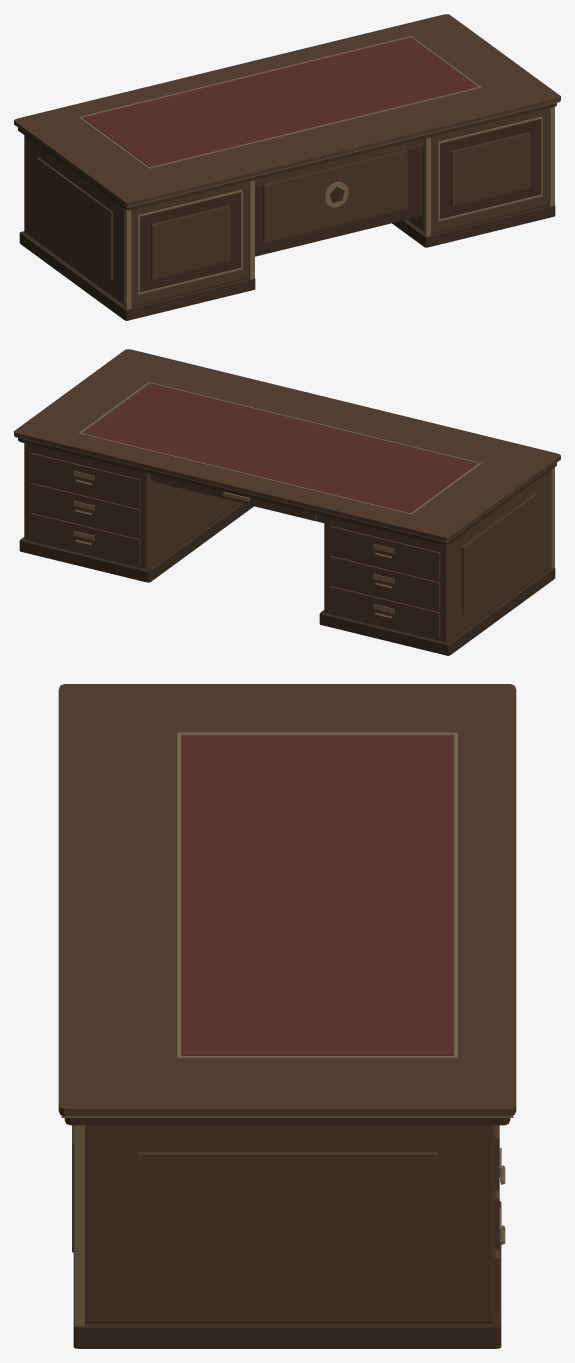
The model's file is dr_desk.glb.
3 renders of one model, top to bottom at view 1: azimuth 30°, elevation 25°; view 2: azimuth 150°, elevation 25°; view 3: azimuth 270°, elevation 25°, orthographic. The views are drawn at different scales.
Visible parts, largest first — view 1: dr_desk; view 2: dr_desk; view 3: dr_desk.
Boxes of the visible parts, box(x1,y1,x2,y2) form: dr_desk: box(14, 14, 560, 320); dr_desk: box(14, 349, 560, 655); dr_desk: box(58, 684, 516, 1348).
Bounding box in the file's own units: 3.34 × 0.8951 × 1.52.
